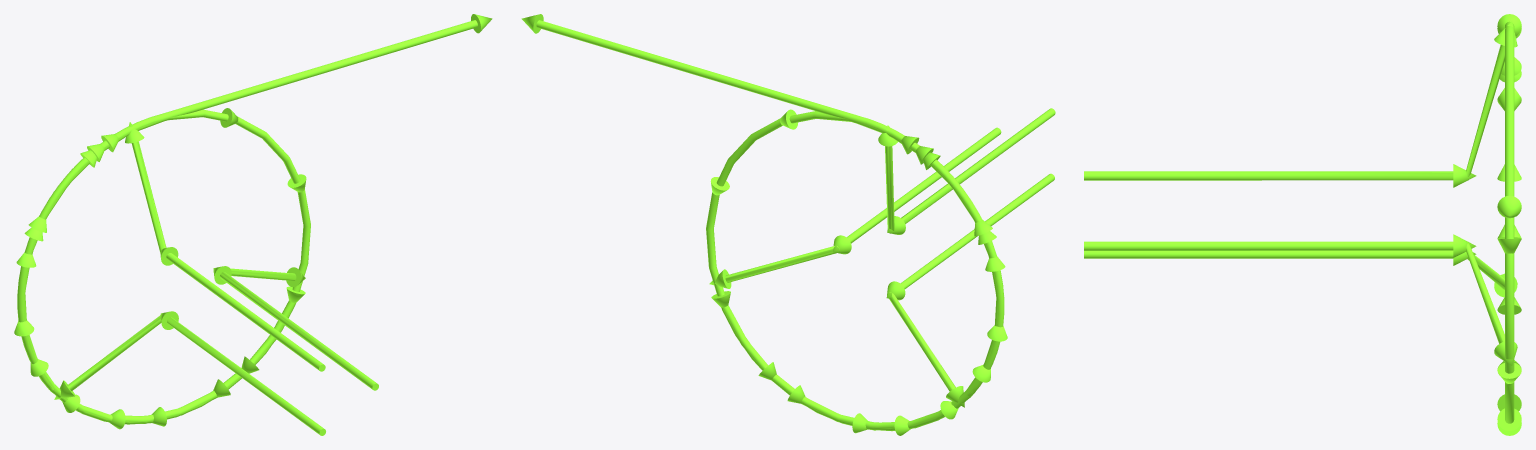
The model's file is forced_draft_fan_flow.glb.
3 views of the same model, side by side, from view 1: azimuth 30°, elevation 25°; view 2: azimuth 150°, elevation 25°; view 3: azimuth 270°, elevation 25° (orthographic). The views are drawn at different scales.
Parts seen in each view (by area): view 1: air_1, air_0, air_2; view 2: air_1, air_0, air_2; view 3: air_1, air_0, air_2.
Part boxes in pixels (left/top/right/bottom): air_1: left=16, top=20, right=477, bottom=429; air_0: left=15, top=14, right=492, bottom=426; air_2: left=14, top=20, right=477, bottom=435; air_1: left=537, top=20, right=1055, bottom=435; air_0: left=521, top=14, right=1006, bottom=433; air_2: left=536, top=20, right=1054, bottom=407; air_1: left=1084, top=21, right=1521, bottom=435; air_0: left=1084, top=14, right=1521, bottom=430; air_2: left=1084, top=22, right=1521, bottom=297.
Size of the model in its own units: 1.42 by 0.9498 by 0.931.
